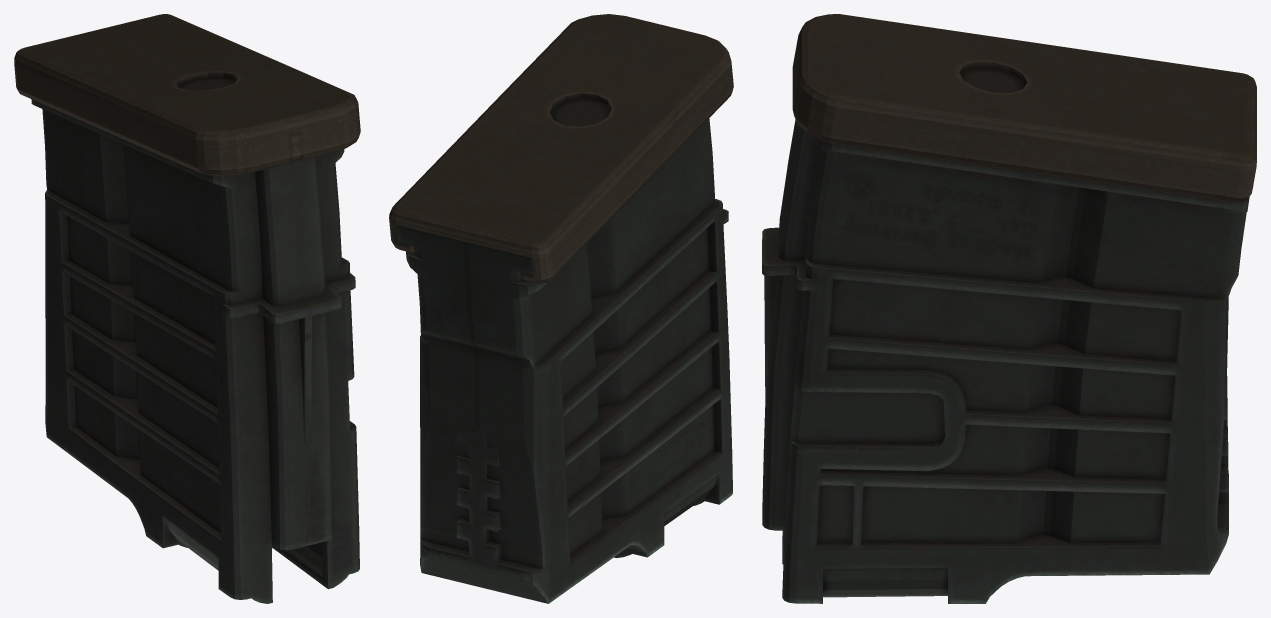
3 views of the same model, side by side, from view 1: azimuth 30°, elevation 25°; view 2: azimuth 150°, elevation 25°; view 3: azimuth 270°, elevation 25° (orthographic). The views are drawn at different scales.
Parts seen in each view (by area): view 1: TW_617130016c780c1e710c9a24_PZ_Import; view 2: TW_617130016c780c1e710c9a24_PZ_Import; view 3: TW_617130016c780c1e710c9a24_PZ_Import.
Part boxes in pixels (x1,y1,x2,y2): TW_617130016c780c1e710c9a24_PZ_Import: (14,14,360,603); TW_617130016c780c1e710c9a24_PZ_Import: (389,14,733,603); TW_617130016c780c1e710c9a24_PZ_Import: (762,14,1256,603).
Size of the model in its own units: 0.0229 by 0.0542 by 0.064.
1 material, 1 textured.
